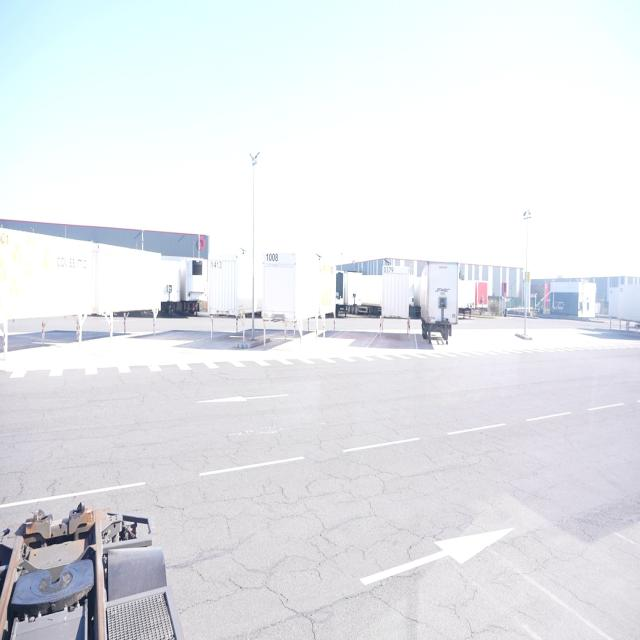Code: (262, 249, 282, 268), (379, 264, 396, 277), (206, 262, 224, 272)
